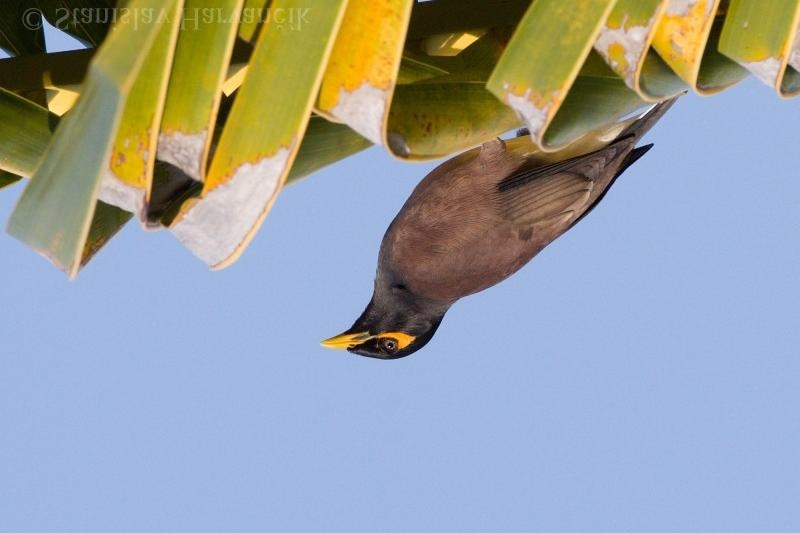myna: (317, 100, 654, 379)
